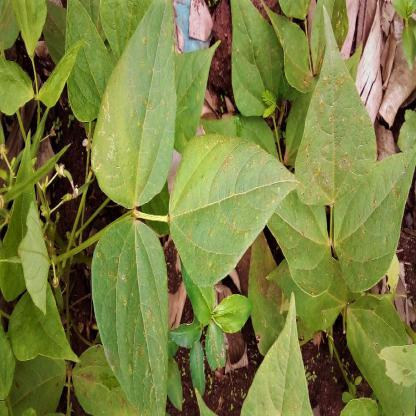Beans_Rust: (169, 138, 298, 281), (94, 0, 180, 210), (92, 218, 171, 416), (295, 0, 365, 204), (330, 150, 416, 293)
